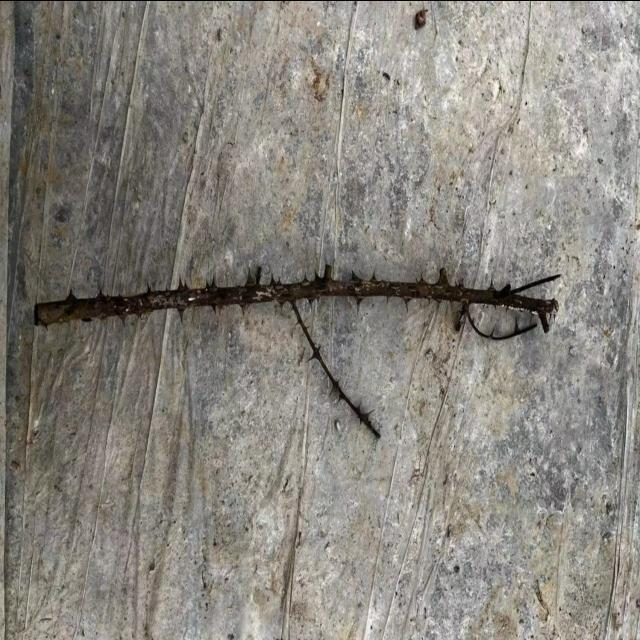branch: (32, 274, 556, 333)
